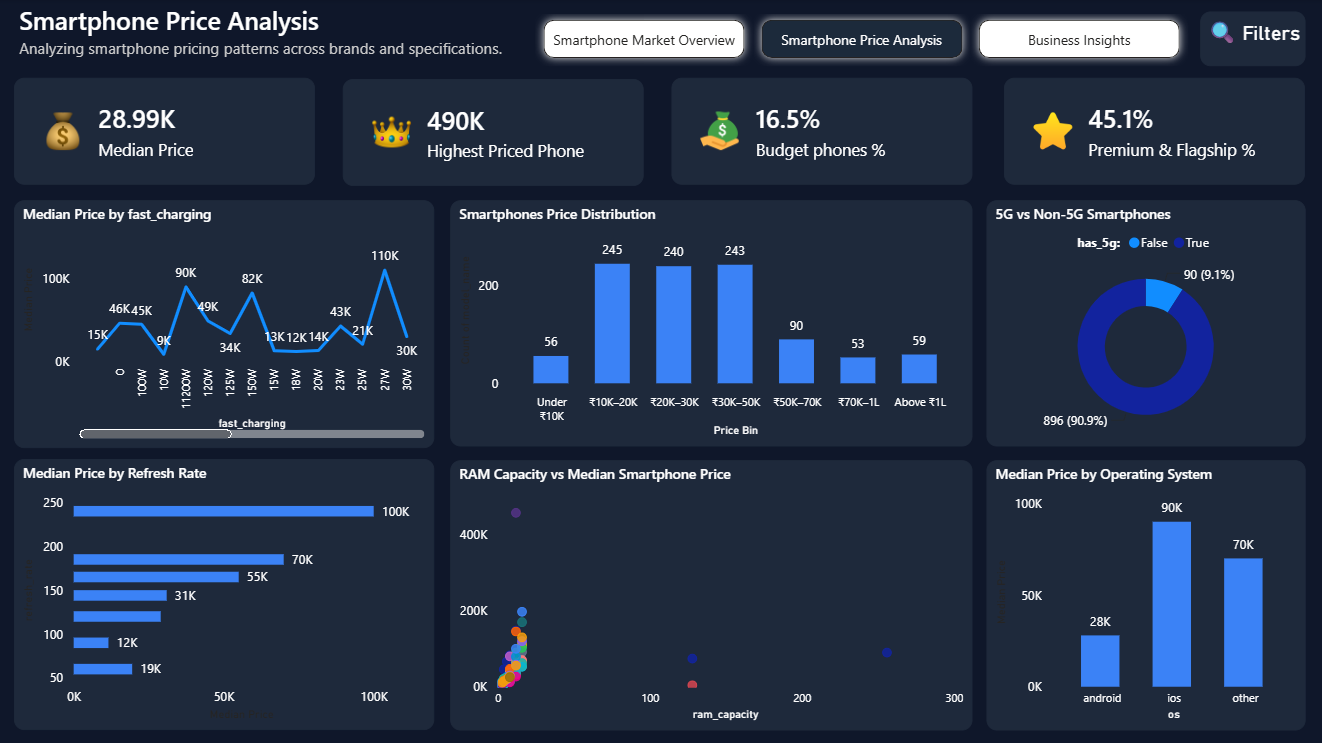

The dashboard page shown, as its layout file describes it:
{"tool":"powerbi","page":{"name":"Smartphone Price Analysis","canvas":[1280,720],"ordinal":1},"visuals":[{"type":"cardVisual","fields":{"Data":["smartphones_cleaned.Median Price"]},"box":[14.9,75.7,290,103],"z":0},{"type":"cardVisual","fields":{"Data":["smartphones_cleaned.Highest Price"]},"box":[331.4,77,290.5,103],"z":1000},{"type":"cardVisual","fields":{"Data":["smartphones_cleaned.Budget %"]},"box":[649.2,75.7,290.5,103],"z":2000},{"type":"cardVisual","fields":{"Data":["smartphones_cleaned.Premium & Flagship %"]},"box":[969.4,75.7,290,103],"z":3000},{"type":"actionButton","title":"🔍 Filters","box":[1159.4,12.1,101.3,53.1],"z":4000},{"type":"donutChart","title":"5G vs Non-5G Smartphones","fields":{"Category":["smartphones_cleaned.has_5g"],"Y":["smartphones_cleaned.Total Smartphones"]},"box":[953.1,194.2,307.6,237.7],"z":5000},{"type":"clusteredBarChart","title":"Median Price by Refresh Rate","fields":{"Y":["smartphones_cleaned.Median Price"],"Category":["smartphones_cleaned.refresh_rate"]},"box":[14.5,444,405.4,261.8],"z":6000},{"type":"clusteredColumnChart","title":"Median Price by Operating System","fields":{"Category":["smartphones_cleaned.os"],"Y":["smartphones_cleaned.Median Price"]},"box":[953.1,445.2,307.6,260.6],"z":7000},{"type":"lineChart","fields":{"Category":["smartphones_cleaned.fast_charging"],"Y":["smartphones_cleaned.Median Price"]},"box":[14.5,194.2,405.4,238.9],"z":8000},{"type":"clusteredColumnChart","title":"Smartphones Price Distribution","fields":{"Y":["CountNonNull(smartphones_cleaned.model_name)"],"Category":["smartphones_cleaned.Price Bin"]},"box":[435.5,194.2,504.3,237.7],"z":9000},{"type":"scatterChart","title":"RAM Capacity vs Median Smartphone Price","fields":{"X":["smartphones_cleaned.ram_capacity"],"Y":["smartphones_cleaned.Median Price"],"Series":["smartphones_cleaned.brand_name"]},"box":[435.5,445.2,504.3,260.6],"z":10000},{"type":"textbox","box":[14.5,0,503.1,65.1],"z":12000},{"type":"pageNavigator","box":[517.6,12.1,631,53.1],"z":13000}]}

Visuals, with their boxes in screenshot pixels (x1, y1, x2, y2), scaled from the page's 1280x720 canvas onto the 1322x743 screenshot:
cardVisual - smartphones_cleaned.Median Price: detection(15, 78, 315, 184)
cardVisual - smartphones_cleaned.Highest Price: detection(342, 79, 642, 186)
cardVisual - smartphones_cleaned.Budget %: detection(671, 78, 971, 184)
cardVisual - smartphones_cleaned.Premium & Flagship %: detection(1001, 78, 1301, 184)
"🔍 Filters" actionButton: detection(1197, 12, 1302, 67)
"5G vs Non-5G Smartphones" donutChart: detection(984, 200, 1302, 446)
"Median Price by Refresh Rate" clusteredBarChart: detection(15, 458, 434, 728)
"Median Price by Operating System" clusteredColumnChart: detection(984, 459, 1302, 728)
lineChart - smartphones_cleaned.fast_charging x smartphones_cleaned.Median Price: detection(15, 200, 434, 447)
"Smartphones Price Distribution" clusteredColumnChart: detection(450, 200, 971, 446)
"RAM Capacity vs Median Smartphone Price" scatterChart: detection(450, 459, 971, 728)
textbox: detection(15, 0, 535, 67)
pageNavigator: detection(535, 12, 1186, 67)
